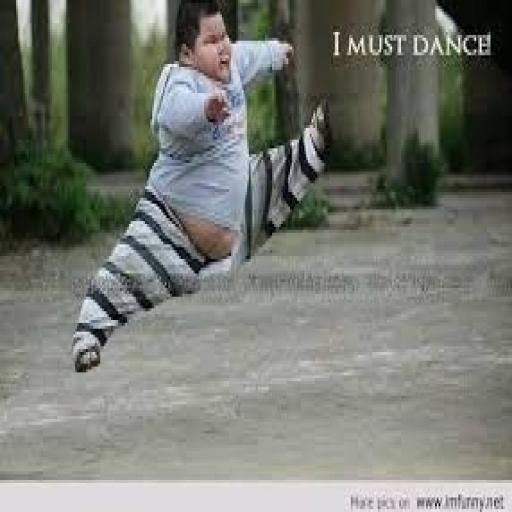dancing: (70, 0, 335, 375)
